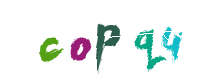4: (117, 0, 197, 80)
C: (40, 0, 120, 80)
O: (44, 0, 124, 80)
P: (61, 0, 141, 80)
Q: (81, 0, 161, 80)
